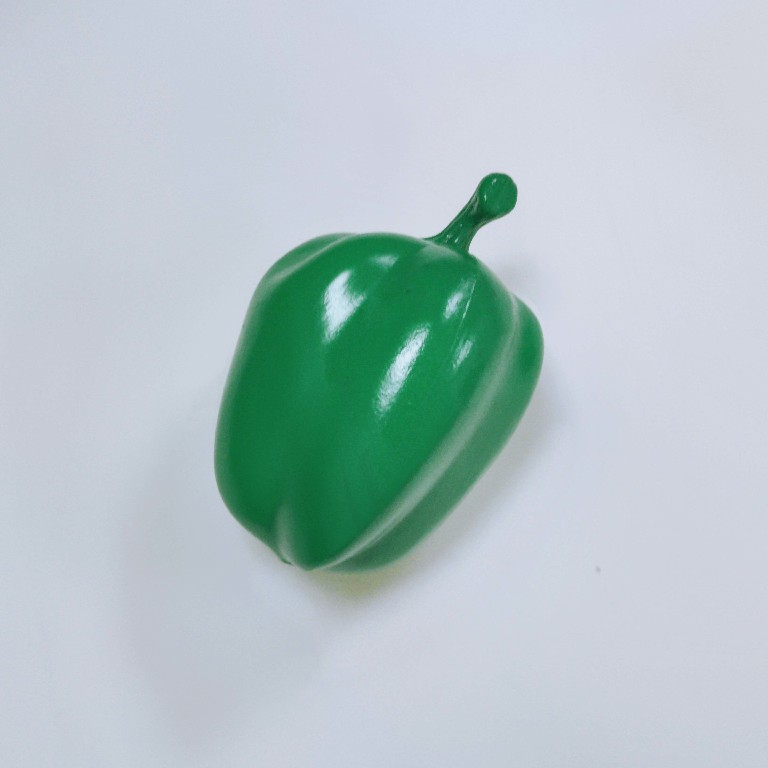fruit_pepper: (206, 169, 552, 578)
